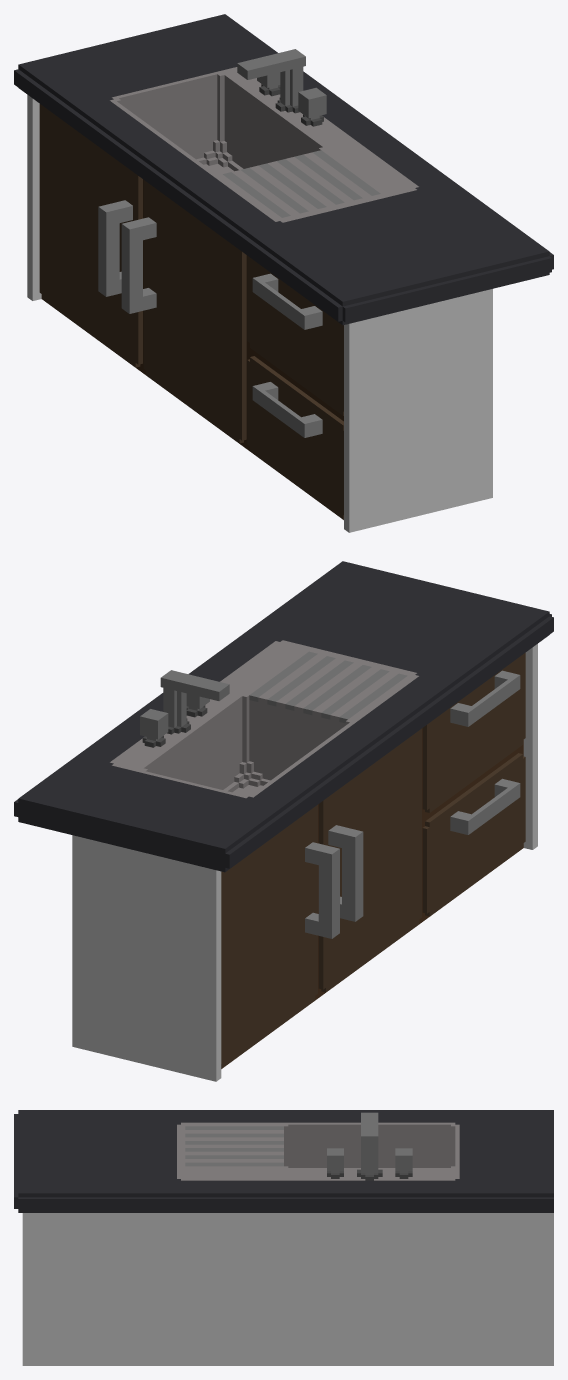
File: kitchen countertop.obj
The picture shows the model from 3 angles, top to bottom: view 1: azimuth 30°, elevation 25°; view 2: azimuth 150°, elevation 25°; view 3: azimuth 270°, elevation 25°; orthographic projection. The views are drawn at different scales.
Bounding box in the file's own units: 5 × 6.1 × 12.6.
1 material, 1 textured.
